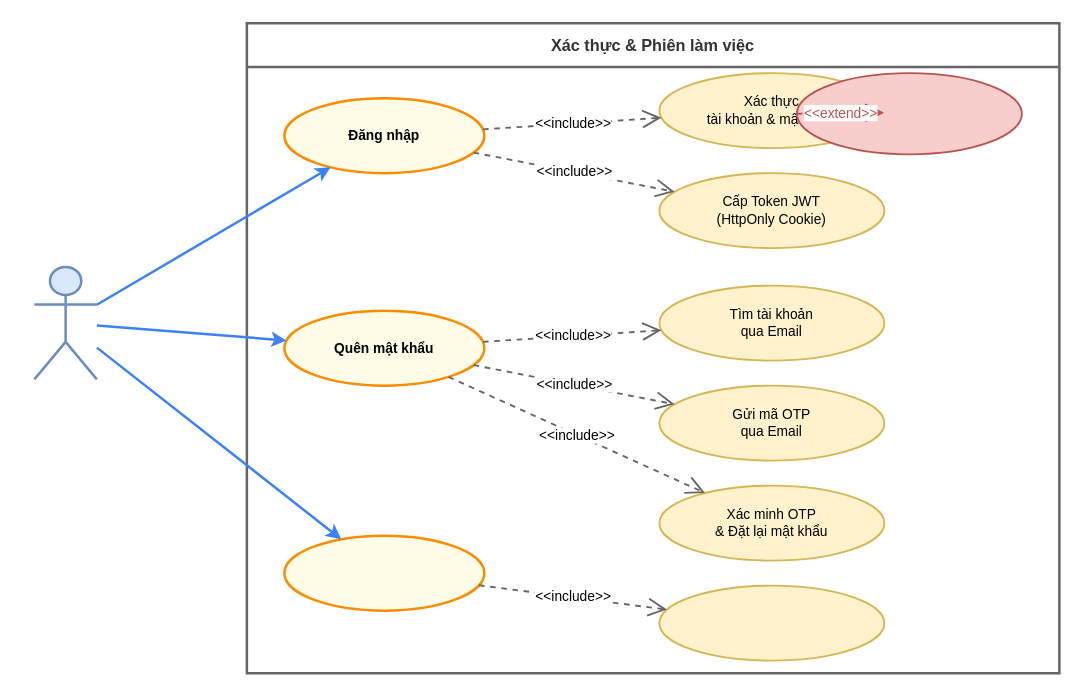
This 1083x695 diagram has some shape labels left out. The box of each missing label's shape, as (x1, y1, x2, y2) in pixels:
Chống đăng nhập Brute-force (Khóa tạm thời): (795, 72, 1022, 155)
Quản Trị Viên (Admin): (32, 265, 98, 380)
Xóa Cookie & Kết thúc phiên: (658, 584, 885, 661)
Đăng xuất: (282, 534, 485, 611)
